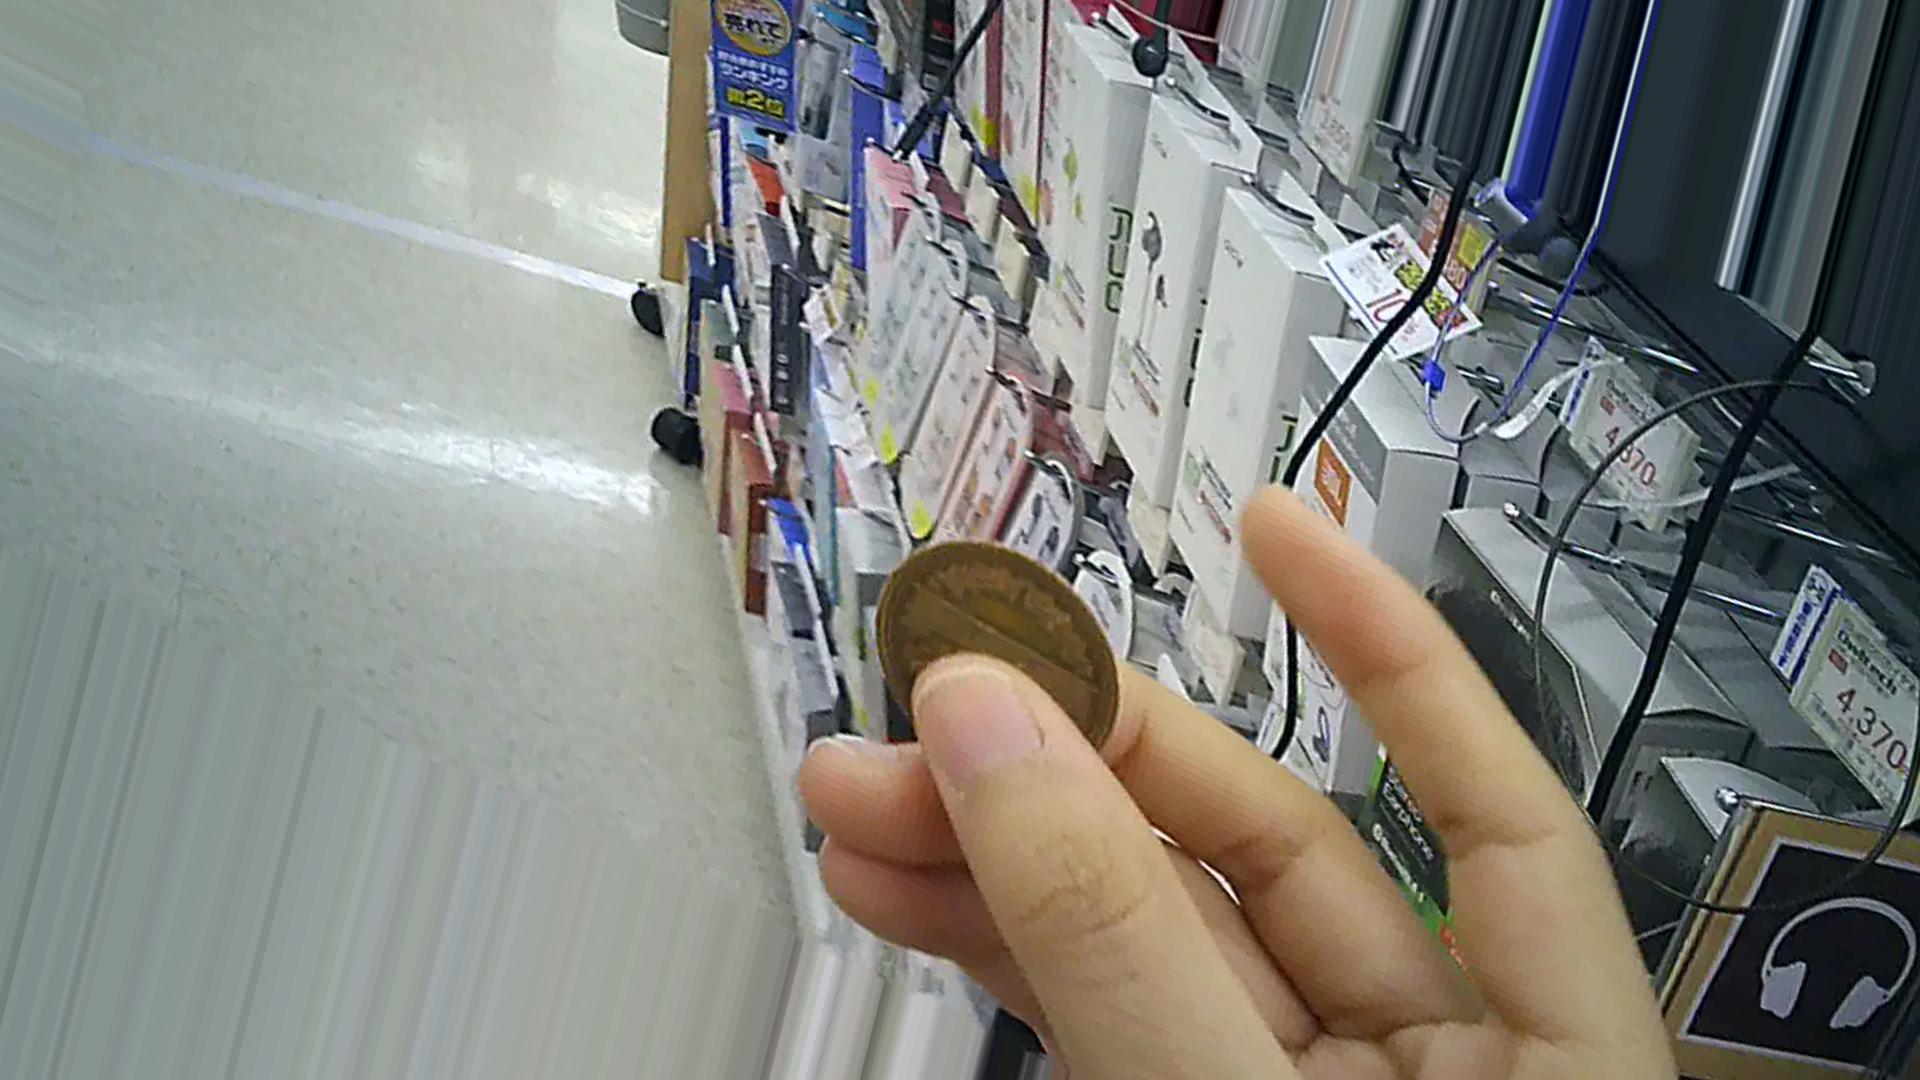10 Yen: (876, 539, 1116, 758)
